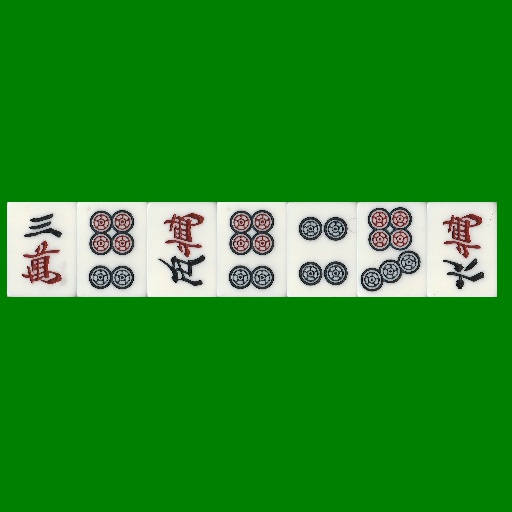3m: (7, 202, 77, 297)
4p: (287, 202, 357, 297)
5m: (147, 202, 217, 297)
6m: (427, 202, 497, 297)
6p: (77, 202, 147, 297), (217, 202, 287, 297)
7p: (357, 202, 427, 297)
